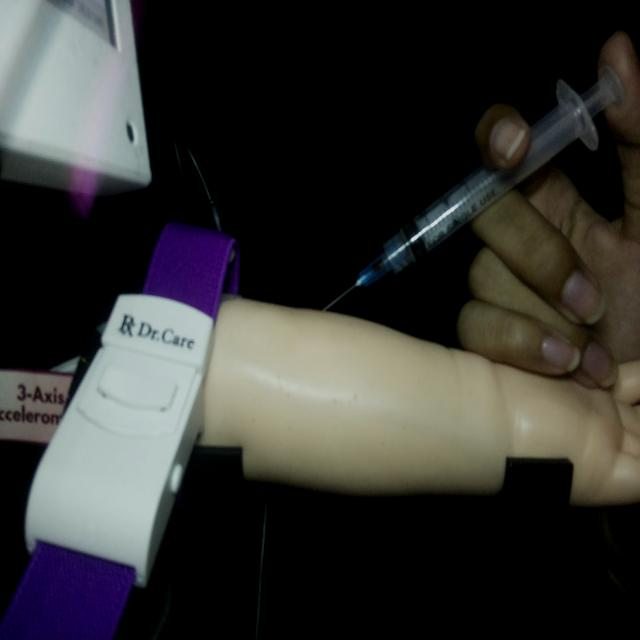28 degrees: (320, 62, 625, 314)
